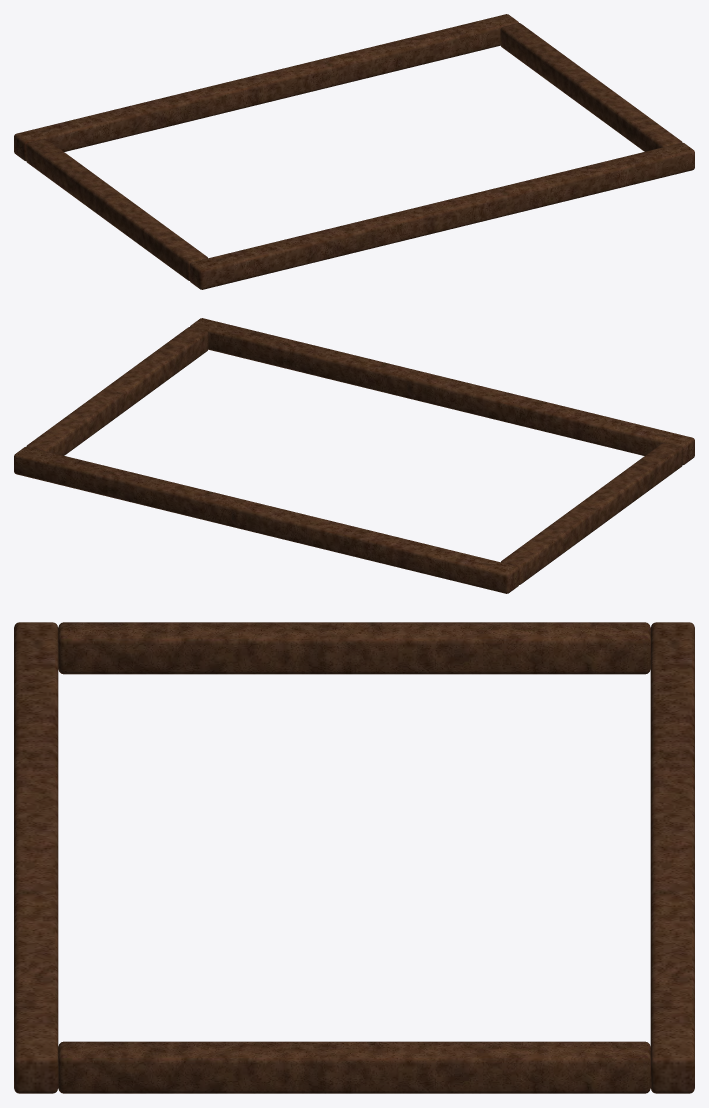
Rendered from rim-leather.glb.
The picture shows the model from 3 angles, top to bottom: view 1: azimuth 30°, elevation 25°; view 2: azimuth 150°, elevation 25°; view 3: azimuth 270°, elevation 25°; orthographic projection. The views are drawn at different scales.
Visible parts, largest first — view 1: rim-leather-long.001, rim-leather-long, rim-leather-short.001, rim-leather-short; view 2: rim-leather-long, rim-leather-long.001, rim-leather-short.001, rim-leather-short; view 3: rim-leather-short, rim-leather-short.001, rim-leather-long, rim-leather-long.001.
Boxes of the visible parts, x1,y1,x2,y2 form: rim-leather-long.001: (189, 142, 694, 289); rim-leather-long: (14, 14, 518, 160); rim-leather-short.001: (26, 138, 207, 280); rim-leather-short: (500, 23, 682, 151); rim-leather-long: (14, 446, 519, 593); rim-leather-long.001: (190, 318, 694, 464); rim-leather-short.001: (501, 442, 682, 584); rim-leather-short: (26, 327, 208, 455); rim-leather-short: (58, 1041, 650, 1093); rim-leather-short.001: (58, 622, 650, 674); rim-leather-long: (650, 622, 694, 1093); rim-leather-long.001: (14, 622, 58, 1093).
Bounding box in the file's own units: 32.8 × 1.3 × 21.55.
Materials: 2 (2 with a texture image).
